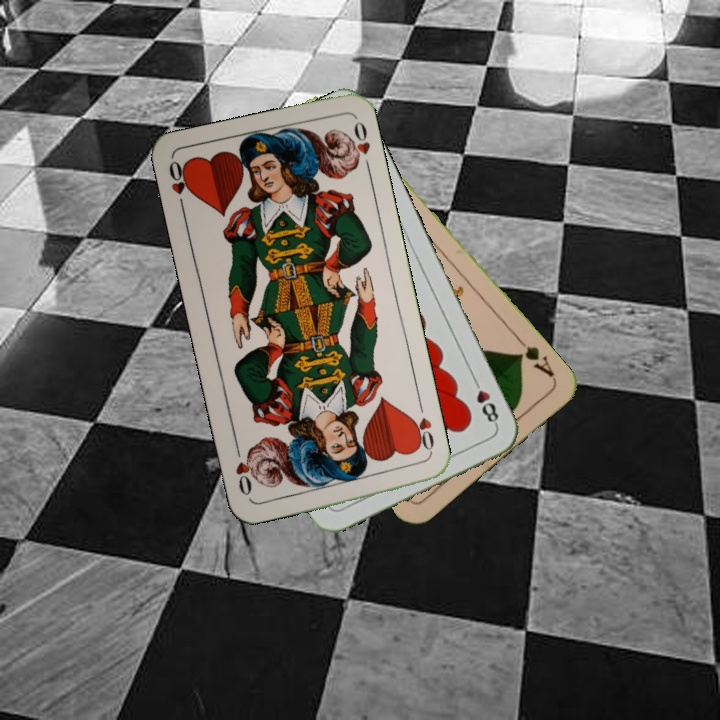GA: (512, 334, 558, 380)
H8: (468, 373, 502, 429)
HO: (406, 399, 437, 458), (164, 157, 194, 216)
